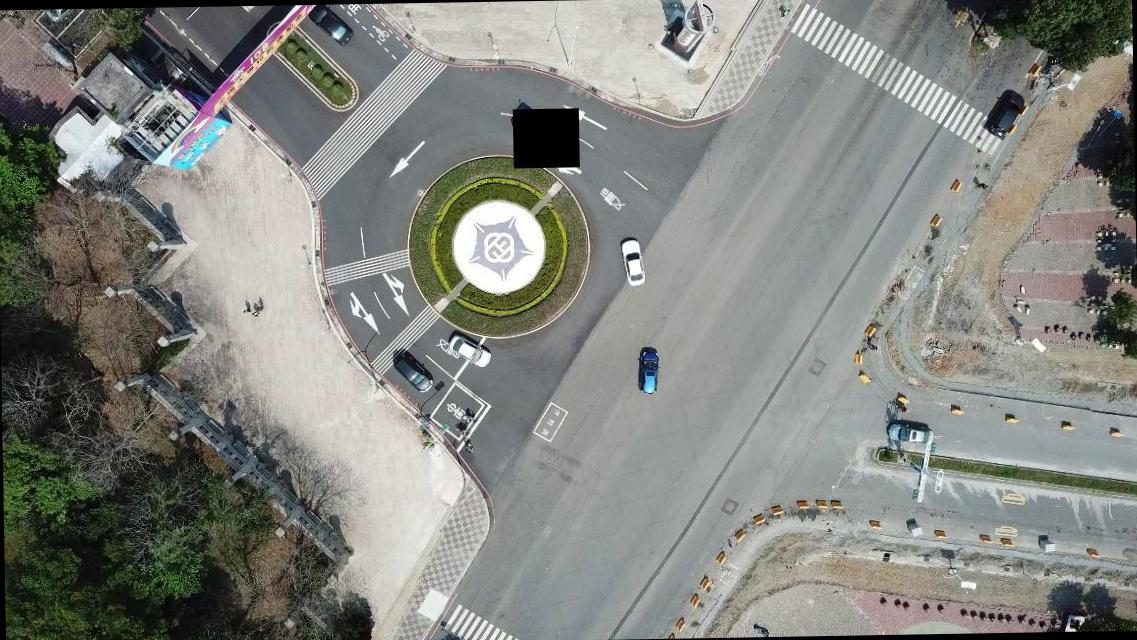vehicle: (305, 7, 354, 48), (987, 90, 1025, 142), (392, 351, 434, 394), (448, 332, 492, 368), (619, 237, 646, 287), (636, 346, 660, 396), (887, 419, 933, 444)
